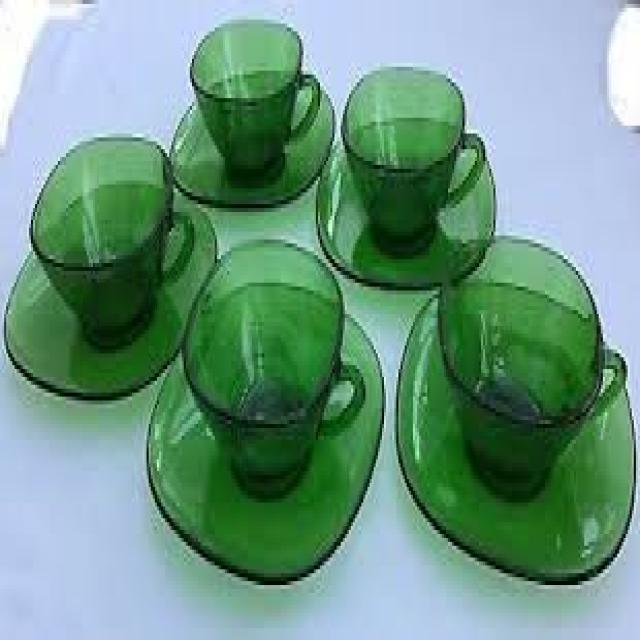glass: (392, 275, 634, 581), (145, 279, 386, 577), (438, 232, 626, 487), (4, 177, 217, 401), (180, 232, 366, 479), (29, 134, 192, 338), (312, 114, 495, 287), (337, 63, 483, 243), (170, 63, 335, 204), (188, 16, 322, 177)
